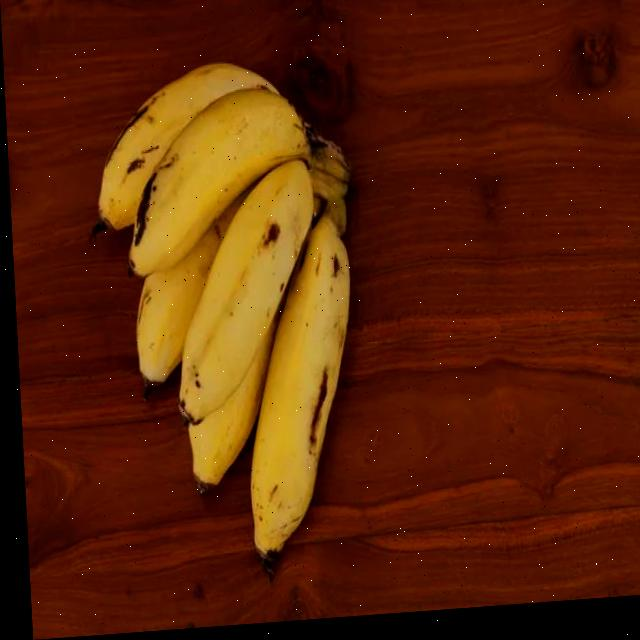banana: (76, 46, 378, 598)
